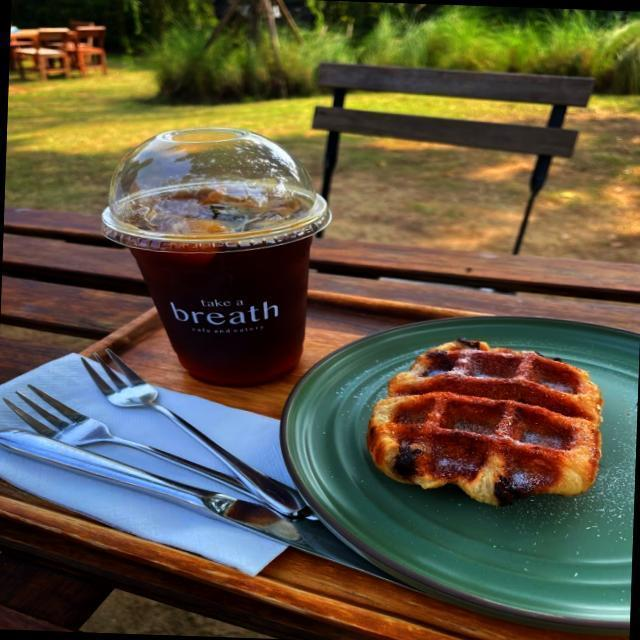cup: (104, 109, 333, 382)
